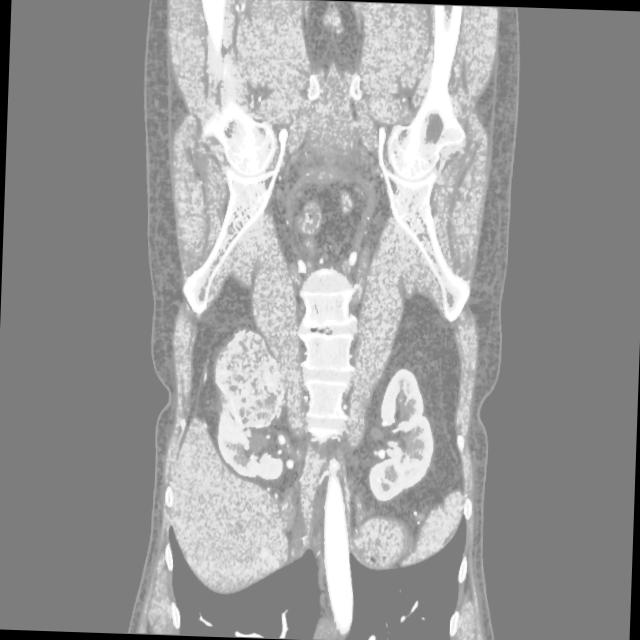TUMOR: (70, 281, 585, 503)
